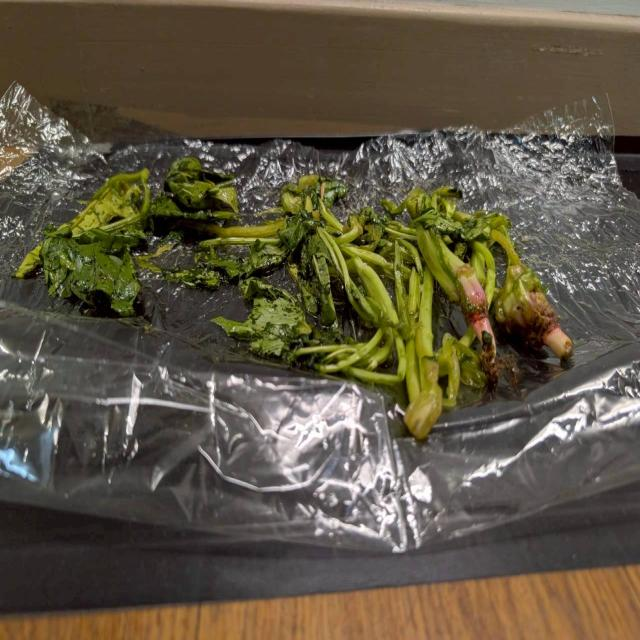rotten spinach: (21, 153, 584, 415), (377, 159, 571, 391), (339, 199, 501, 444), (228, 165, 376, 426), (28, 137, 192, 358), (149, 114, 266, 316)
